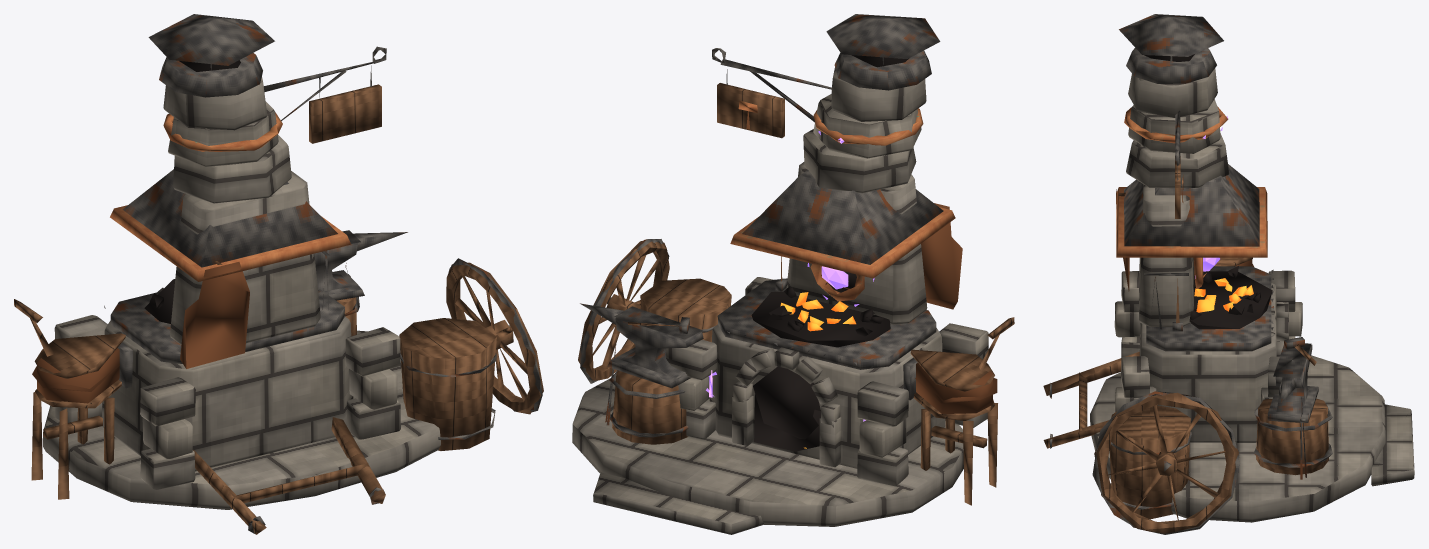
File: forge_lod.glb
3 renders of one model, left to right at view 1: azimuth 30°, elevation 25°; view 2: azimuth 150°, elevation 25°; view 3: azimuth 270°, elevation 25°, orthographic. The views are drawn at different scales.
Visible parts, largest first — view 1: WF_Forge_Stone_LOD, WF_Oiled_Wood_LOD, WF_Hammered_Iron_LOD, WF_Saddle_Leather_LOD, WF_Worn_Copper_LOD, WF_Soot_Recess_LOD; view 2: WF_Forge_Stone_LOD, WF_Hammered_Iron_LOD, WF_Oiled_Wood_LOD, WF_Soot_Recess_LOD, WF_Worn_Copper_LOD, WF_Saddle_Leather_LOD, WF_Hearth_Ember_LOD, WF_Arcane_Core_LOD; view 3: WF_Forge_Stone_LOD, WF_Hammered_Iron_LOD, WF_Oiled_Wood_LOD, WF_Worn_Copper_LOD, WF_Soot_Recess_LOD, WF_Hearth_Ember_LOD.
Boxes of the visible parts, x1,y1,x2,y2 form: WF_Forge_Stone_LOD: [43, 77, 440, 509]; WF_Oiled_Wood_LOD: [14, 84, 543, 534]; WF_Hammered_Iron_LOD: [104, 14, 542, 534]; WF_Saddle_Leather_LOD: [32, 262, 249, 403]; WF_Worn_Copper_LOD: [110, 112, 351, 281]; WF_Soot_Recess_LOD: [144, 60, 240, 323]; WF_Forge_Stone_LOD: [572, 67, 988, 534]; WF_Hammered_Iron_LOD: [580, 14, 943, 437]; WF_Oiled_Wood_LOD: [578, 83, 1014, 505]; WF_Soot_Recess_LOD: [751, 55, 909, 451]; WF_Worn_Copper_LOD: [730, 100, 955, 301]; WF_Saddle_Leather_LOD: [915, 203, 997, 413]; WF_Hearth_Ember_LOD: [780, 292, 856, 448]; WF_Arcane_Core_LOD: [706, 131, 874, 421]; WF_Forge_Stone_LOD: [1090, 68, 1414, 522]; WF_Hammered_Iron_LOD: [1049, 14, 1332, 534]; WF_Oiled_Wood_LOD: [1043, 156, 1328, 533]; WF_Worn_Copper_LOD: [1116, 106, 1267, 288]; WF_Soot_Recess_LOD: [1144, 54, 1279, 341]; WF_Hearth_Ember_LOD: [1194, 278, 1253, 312].
Bounding box in the file's own units: 3.23 × 3.07 × 2.64.
8 materials, 4 textured.
